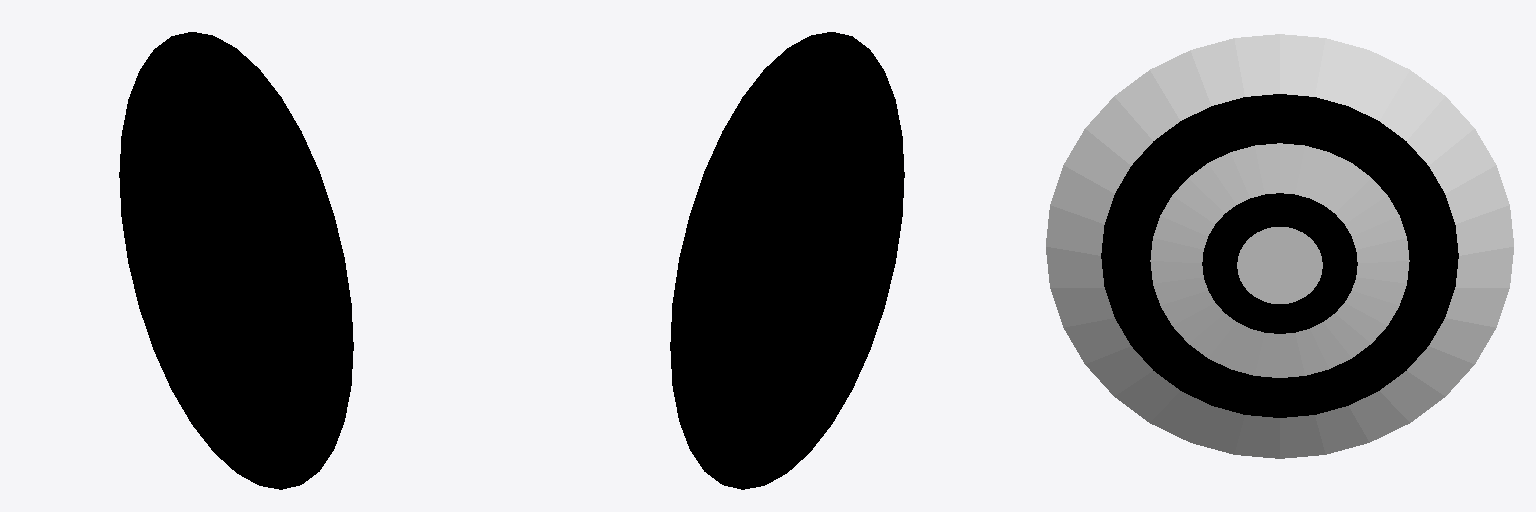
3 views of the same model, side by side, from view 1: azimuth 30°, elevation 25°; view 2: azimuth 150°, elevation 25°; view 3: azimuth 270°, elevation 25° (orthographic).
Visible parts, largest first — view 1: Cylinder; view 2: Cylinder; view 3: Cylinder.
Part boxes in pixels (bbox=[...]): Cylinder: bbox=[119, 32, 353, 489]; Cylinder: bbox=[670, 32, 904, 489]; Cylinder: bbox=[1046, 34, 1513, 458].
Size of the model in its own units: 0.1917 by 2 by 2.
Materials: 1 (1 with a texture image).